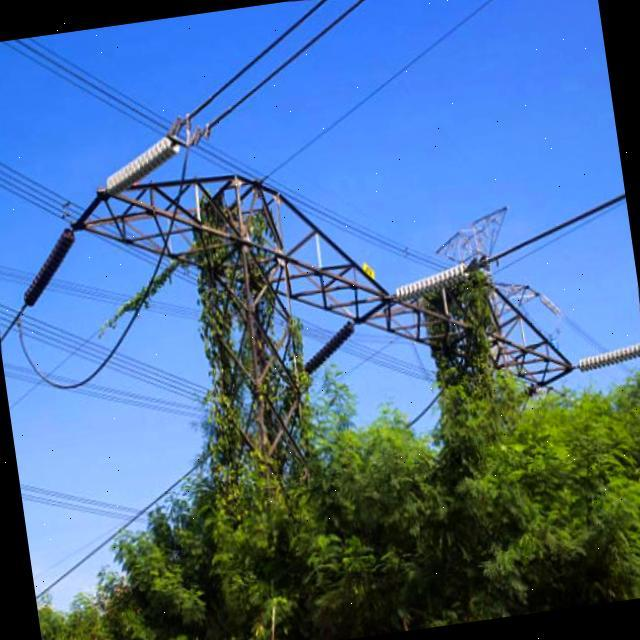critical vegetation: (148, 149, 354, 500), (390, 227, 553, 418)
